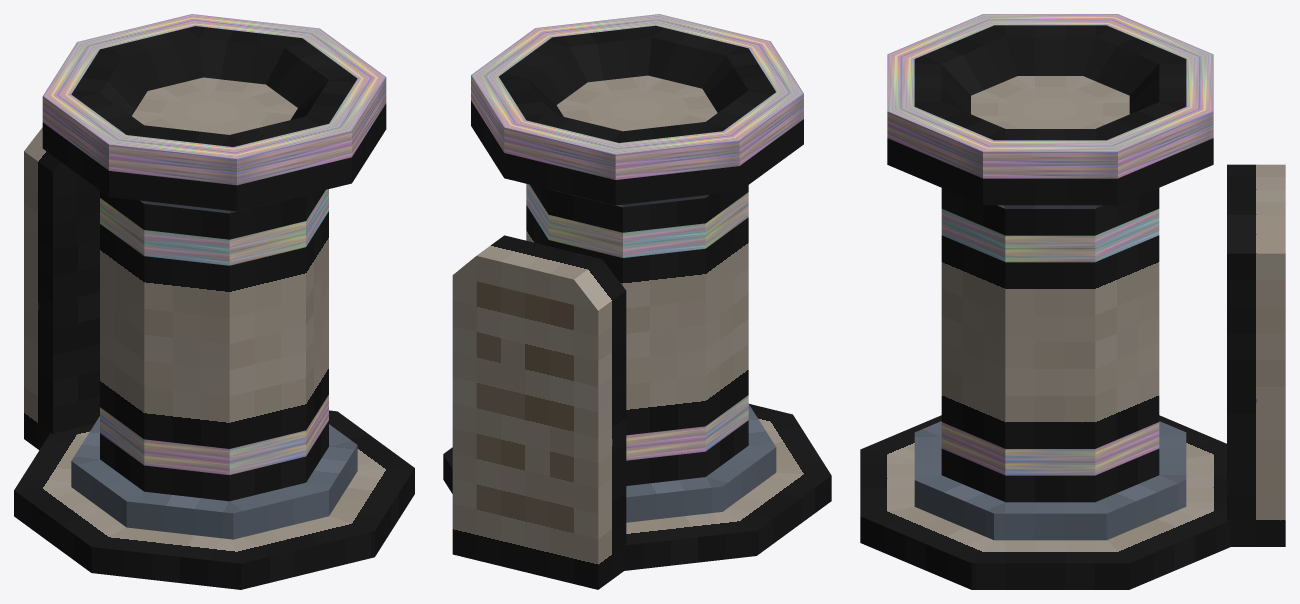
The model's file is pedestal_inventory.obj.
The picture shows the model from 3 angles, left to right: view 1: azimuth 30°, elevation 25°; view 2: azimuth 150°, elevation 25°; view 3: azimuth 270°, elevation 25°; orthographic projection. The views are drawn at different scales.
Visible parts, largest first — view 1: PEDESTAL_Cylinder.001, SIGN_Cube.001; view 2: PEDESTAL_Cylinder.001, SIGN_Cube.001; view 3: PEDESTAL_Cylinder.001, SIGN_Cube.001.
Boxes of the visible parts, x1=… form: PEDESTAL_Cylinder.001: x1=14, y1=14, x2=414, y2=589; SIGN_Cube.001: x1=24, y1=127, x2=99, y2=450; PEDESTAL_Cylinder.001: x1=443, y1=14, x2=831, y2=570; SIGN_Cube.001: x1=452, y1=235, x2=626, y2=589; PEDESTAL_Cylinder.001: x1=860, y1=14, x2=1230, y2=589; SIGN_Cube.001: x1=1227, y1=164, x2=1285, y2=546.
Bounding box in the file's own units: 0.8084 × 1 × 0.9042.
